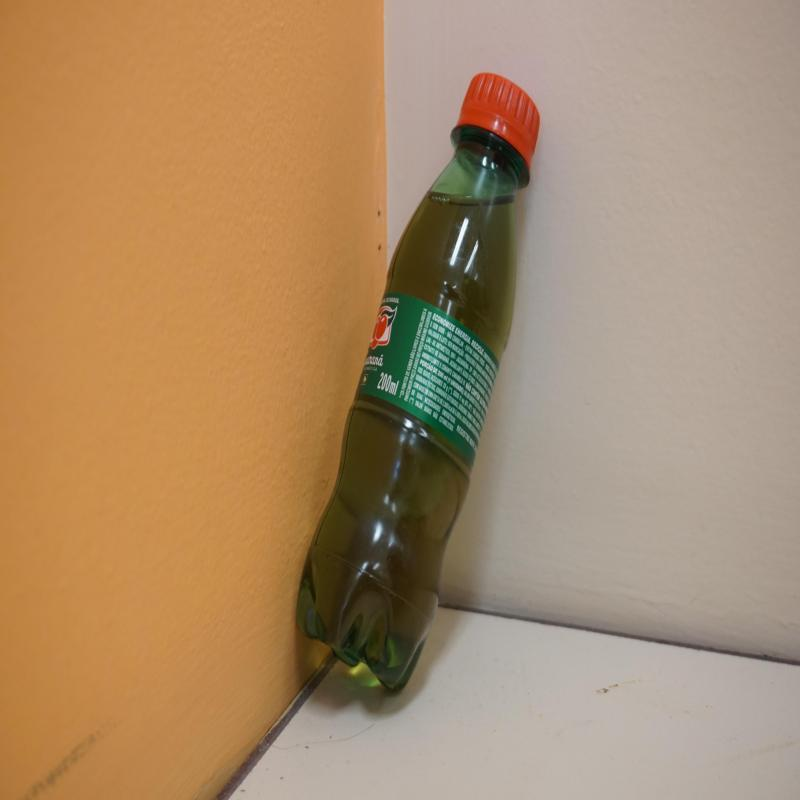Guarana: (296, 73, 540, 698)
